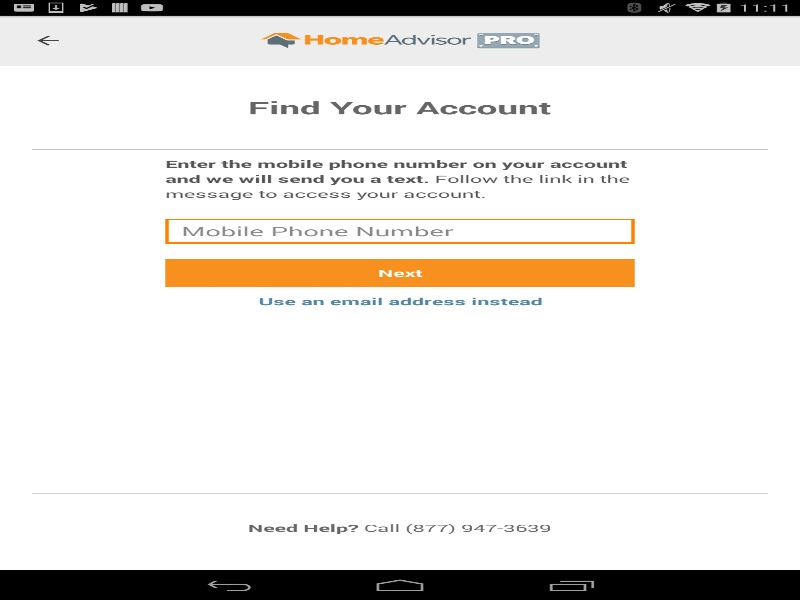Button: (165, 258, 634, 287), (10, 20, 85, 60)
Input: (165, 218, 634, 243)
